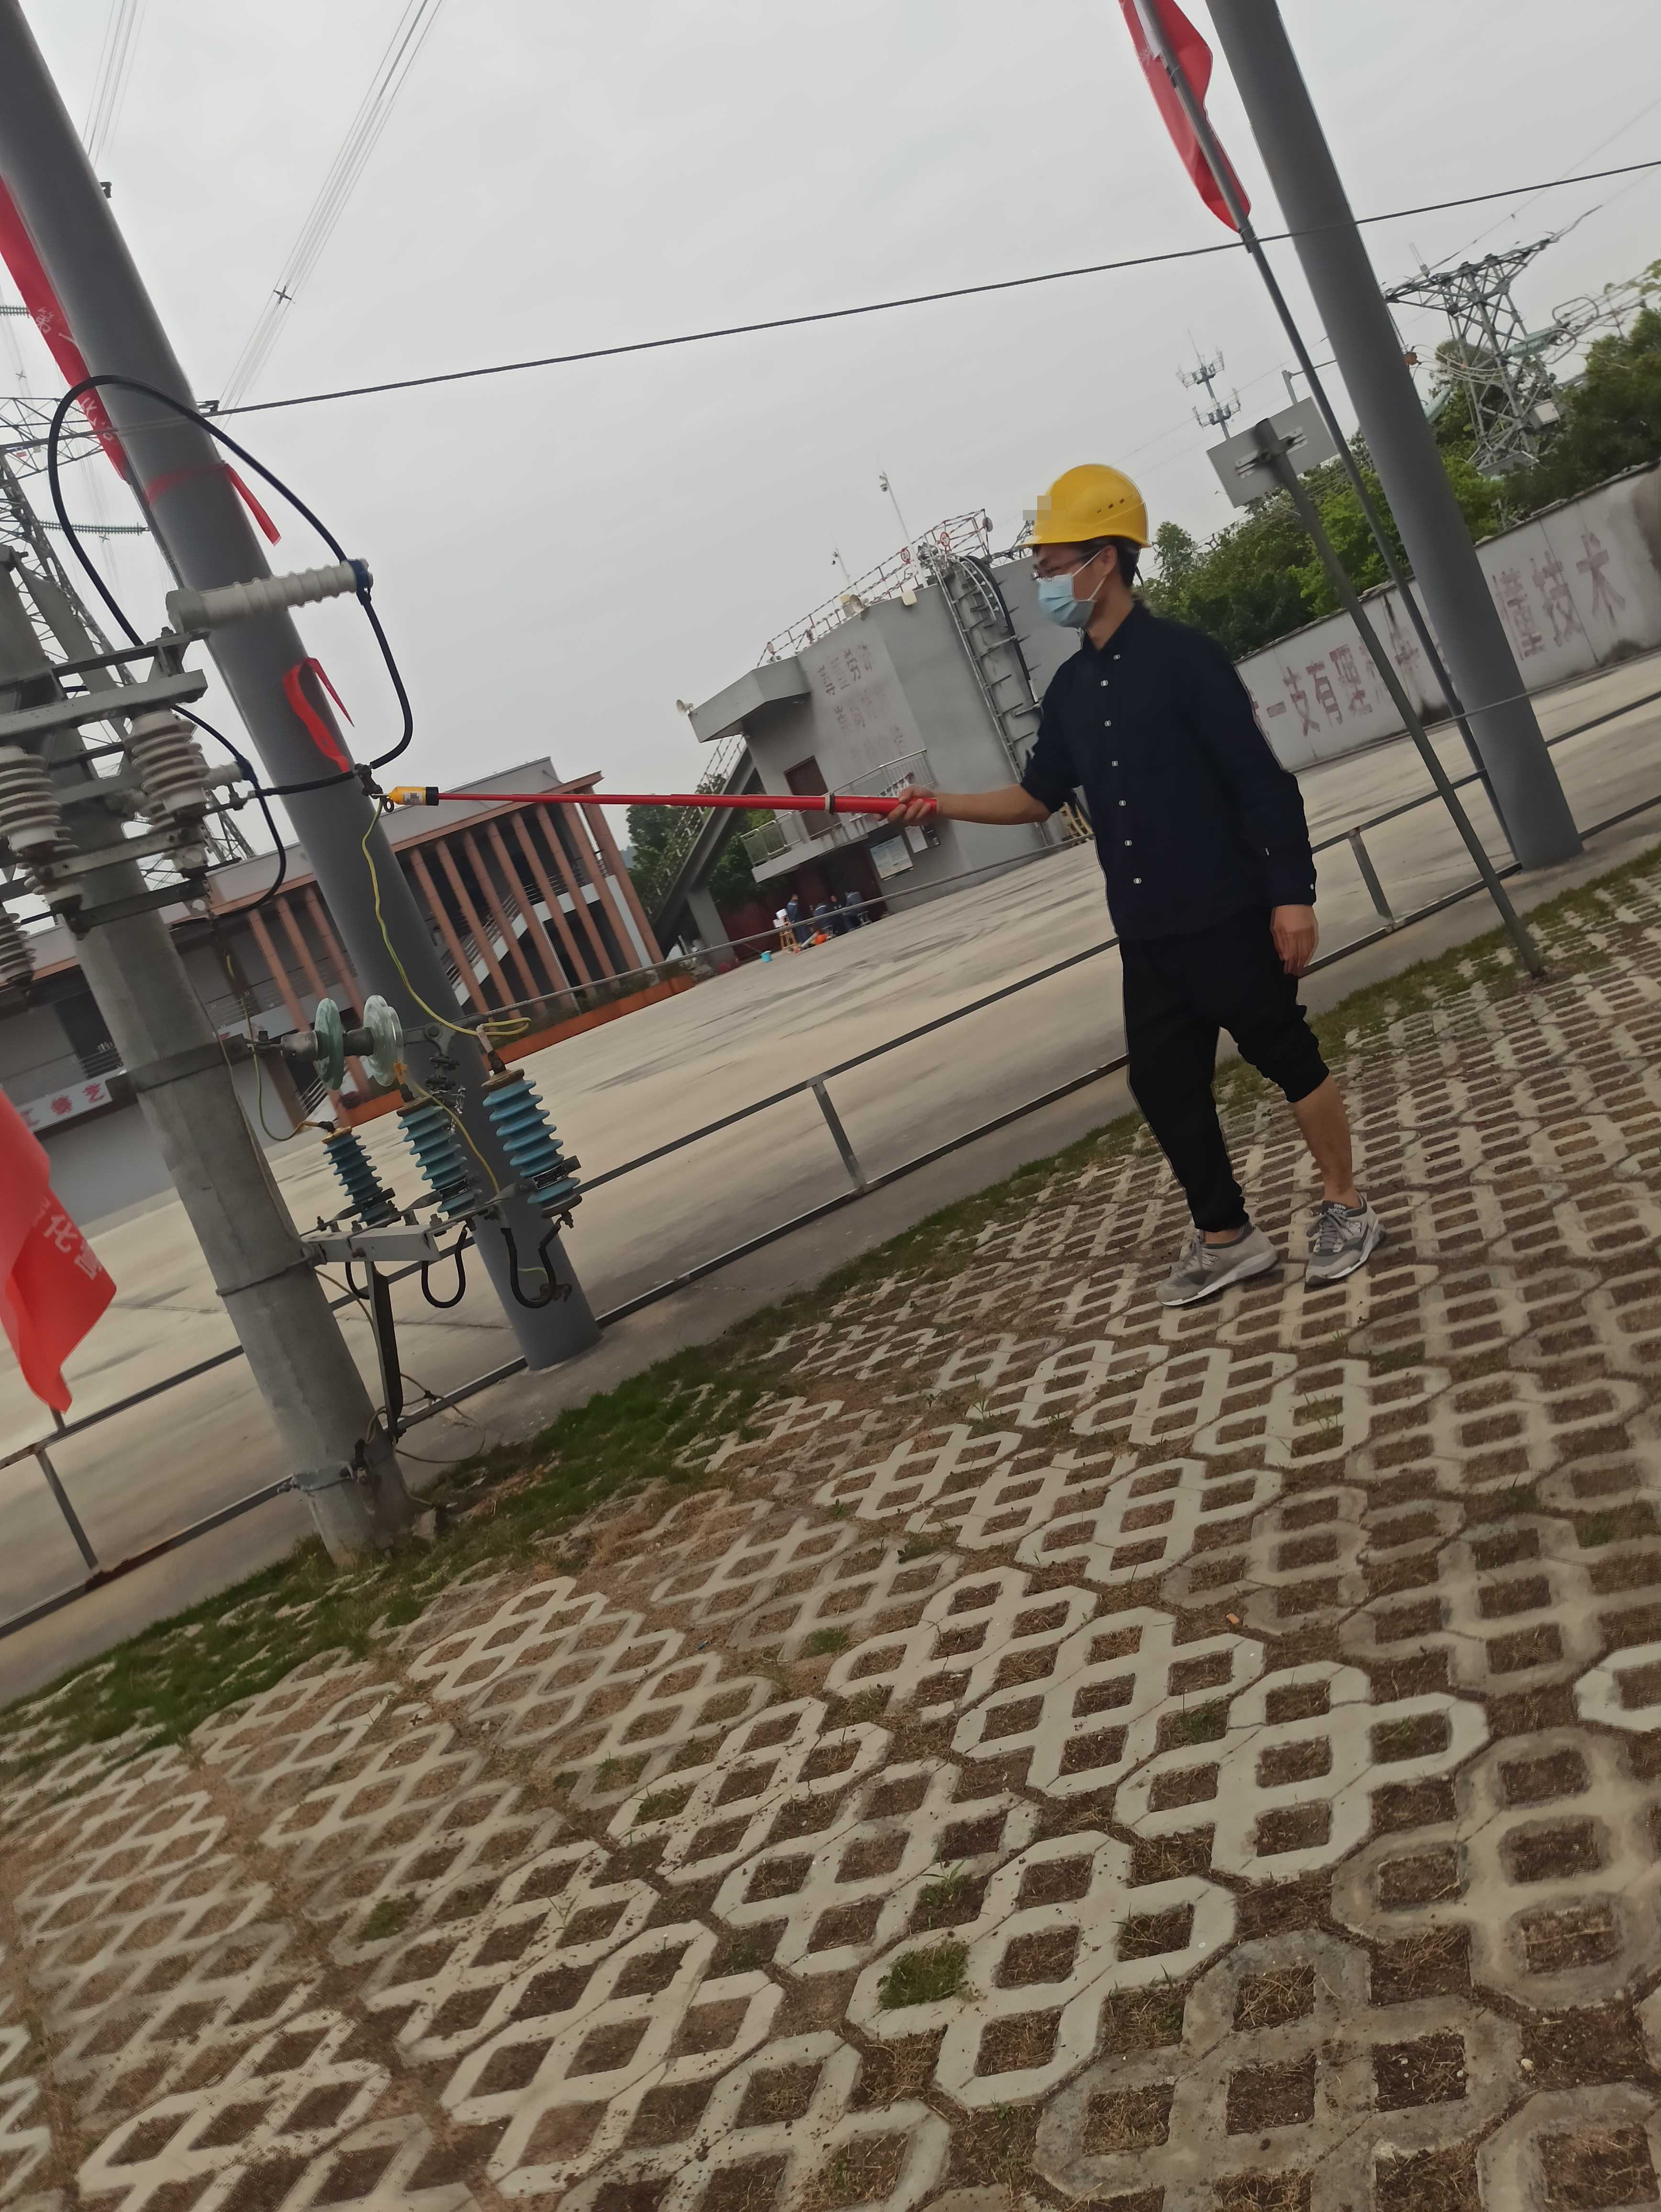downcloth: (1118, 970, 1370, 1280)
upcloth: (1024, 616, 1291, 944)
wrongbottom: (1256, 1008, 1359, 1216)
wrongtop: (907, 757, 1066, 860)
